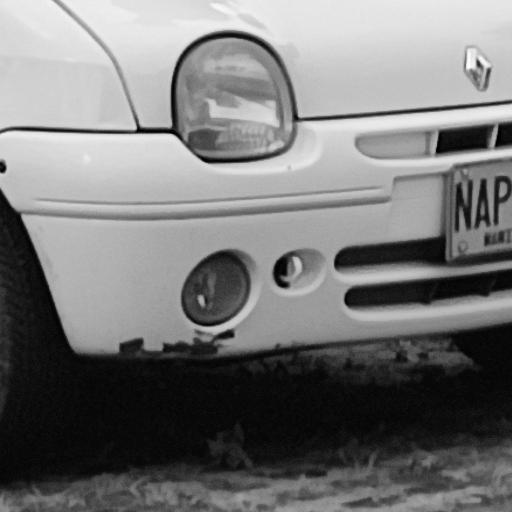placa: (451, 164, 512, 243)
